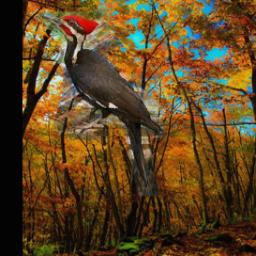Woodpecker: (38, 13, 165, 197)
